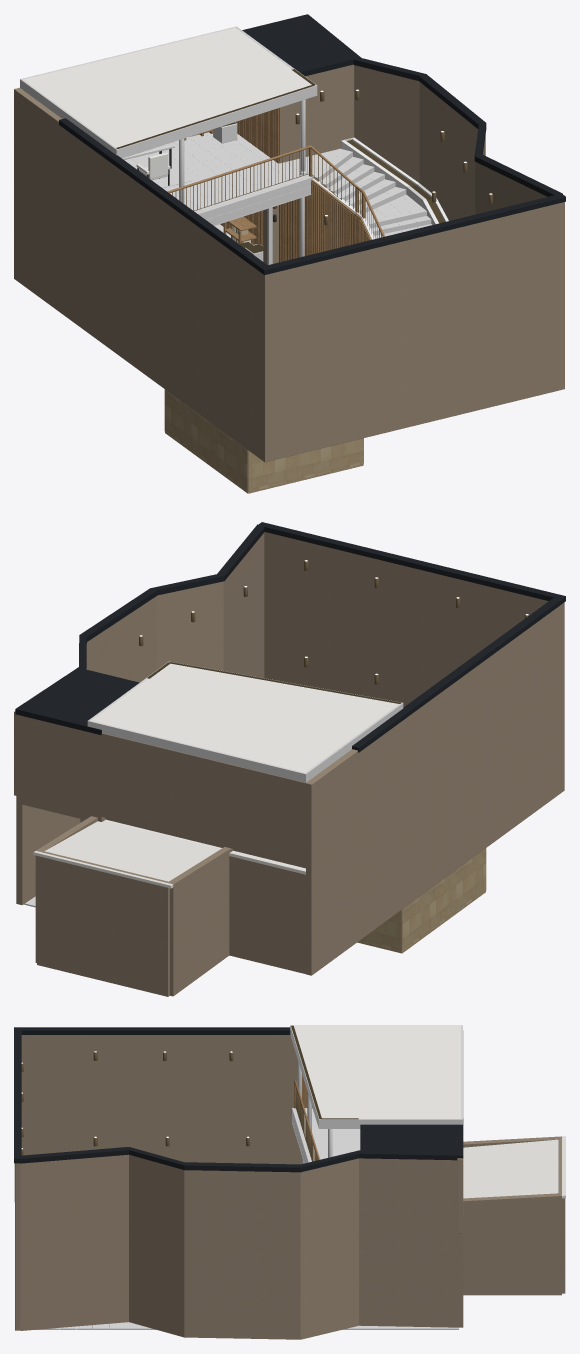
The model's file is atelier.glb.
The picture shows the model from 3 angles, top to bottom: view 1: azimuth 30°, elevation 25°; view 2: azimuth 150°, elevation 25°; view 3: azimuth 270°, elevation 25°; orthographic projection. The views are drawn at different scales.
Parts seen in each view (by area): view 1: Connected_Atelier; view 2: Connected_Atelier; view 3: Connected_Atelier.
Part boxes in pixels (box(x1,y1,x2,y2)): Connected_Atelier: box(14, 14, 565, 493); Connected_Atelier: box(14, 522, 565, 996); Connected_Atelier: box(14, 1025, 565, 1339).
Size of the model in its own units: 12 by 9.67 by 19.9.
31 materials, 3 textured.
